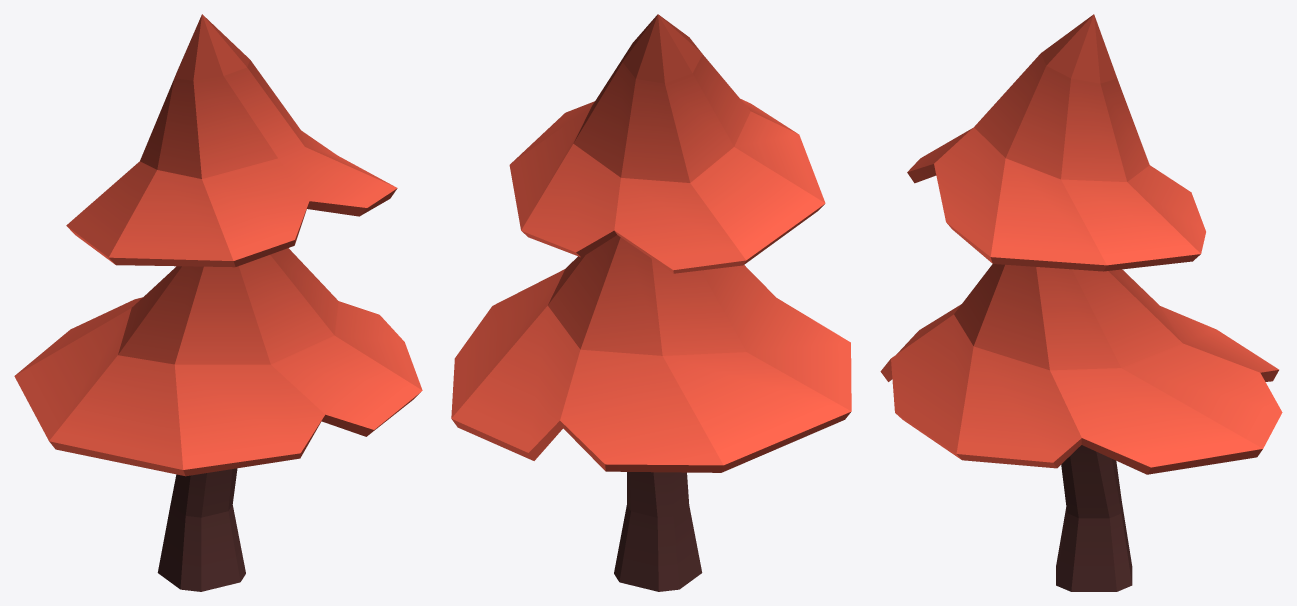
The model's file is RedPine7.fbx.
The picture shows the model from 3 angles, left to right: view 1: azimuth 30°, elevation 25°; view 2: azimuth 150°, elevation 25°; view 3: azimuth 270°, elevation 25°; orthographic projection.
Parts seen in each view (by area): view 1: RedPine7; view 2: RedPine7; view 3: RedPine7.
Boxes of the visible parts, bbox=[...] form: RedPine7: bbox=[14, 14, 422, 591]; RedPine7: bbox=[451, 14, 851, 591]; RedPine7: bbox=[880, 14, 1282, 591].
Bounding box in the file's own units: 308 × 463 × 300.
